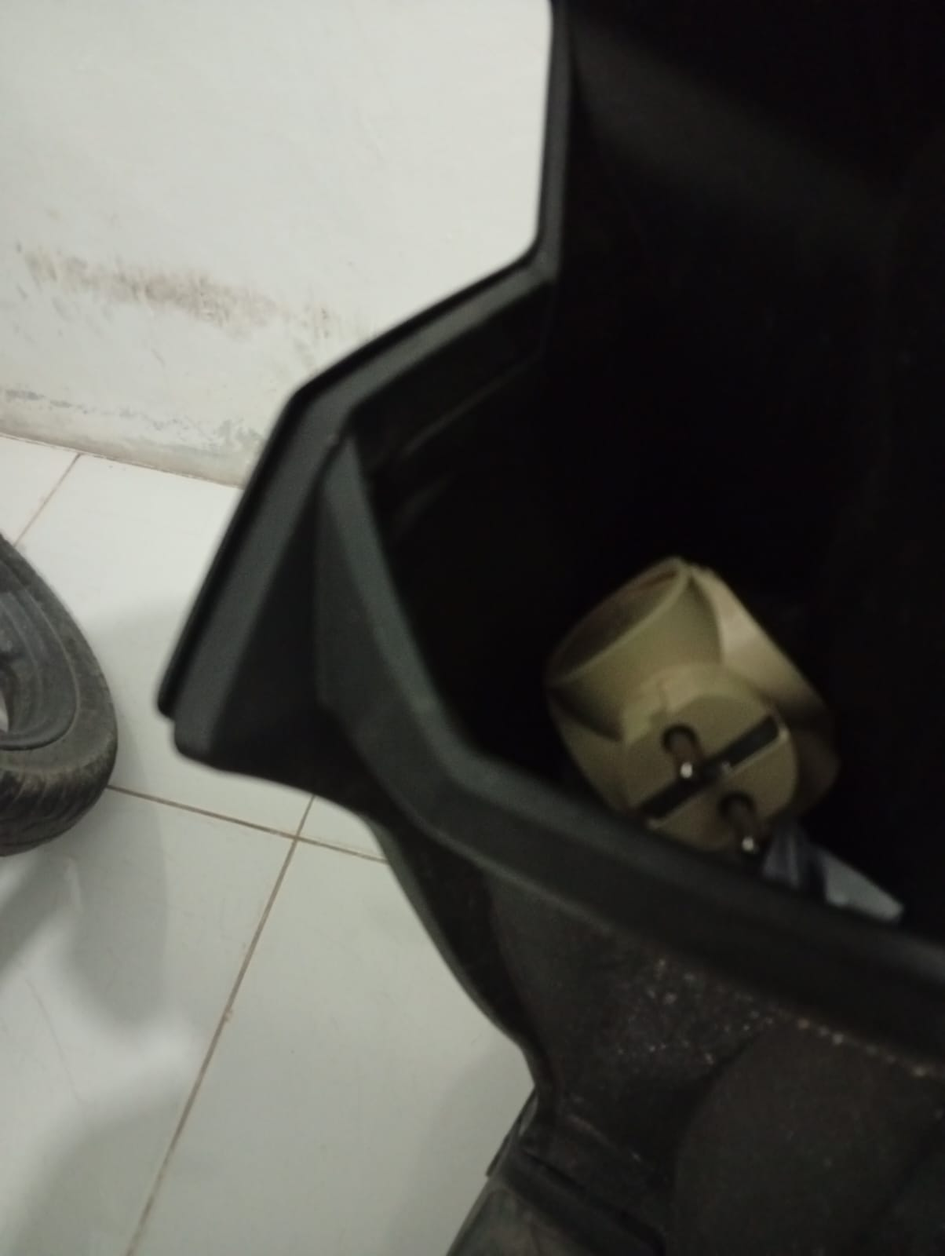Colokan: (461, 542, 875, 880)
